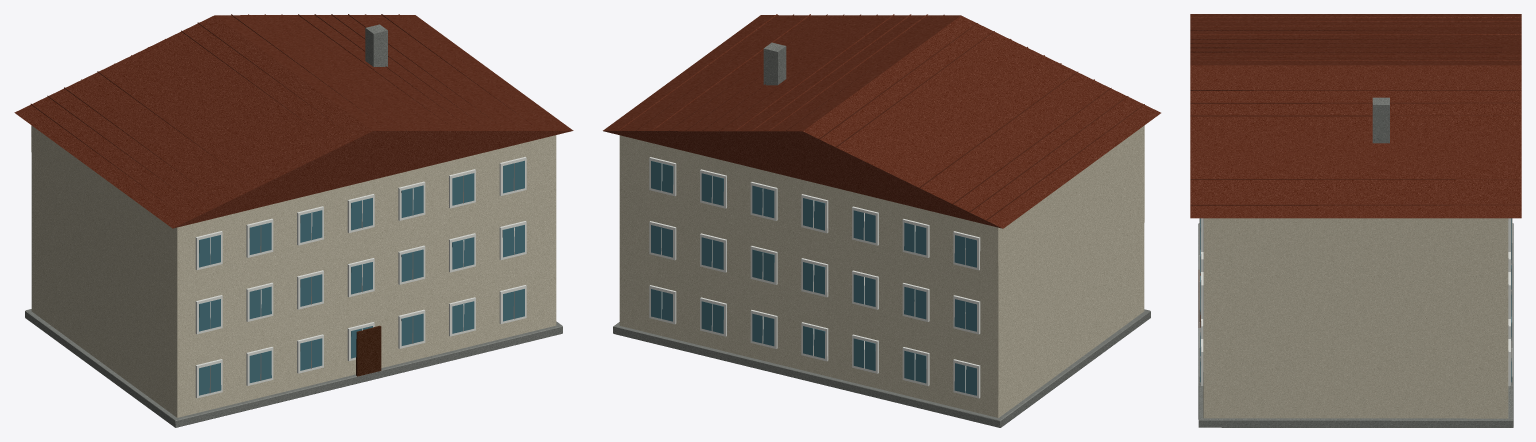
Rendered from Apartment_3Floors_LOD2.glb.
3 renders of one model, left to right at view 1: azimuth 30°, elevation 25°; view 2: azimuth 150°, elevation 25°; view 3: azimuth 270°, elevation 25°, orthographic. The views are drawn at different scales.
Visible parts, largest first — view 1: Apartment_3Floors_export; view 2: Apartment_3Floors_export; view 3: Apartment_3Floors_export.
Boxes of the visible parts, box(x1,y1,x2,y2) form: Apartment_3Floors_export: box(14, 14, 573, 427); Apartment_3Floors_export: box(603, 14, 1160, 427); Apartment_3Floors_export: box(1190, 14, 1521, 427).
Bounding box in the file's own units: 19 × 11.98 × 13.
6 materials, 4 textured.
